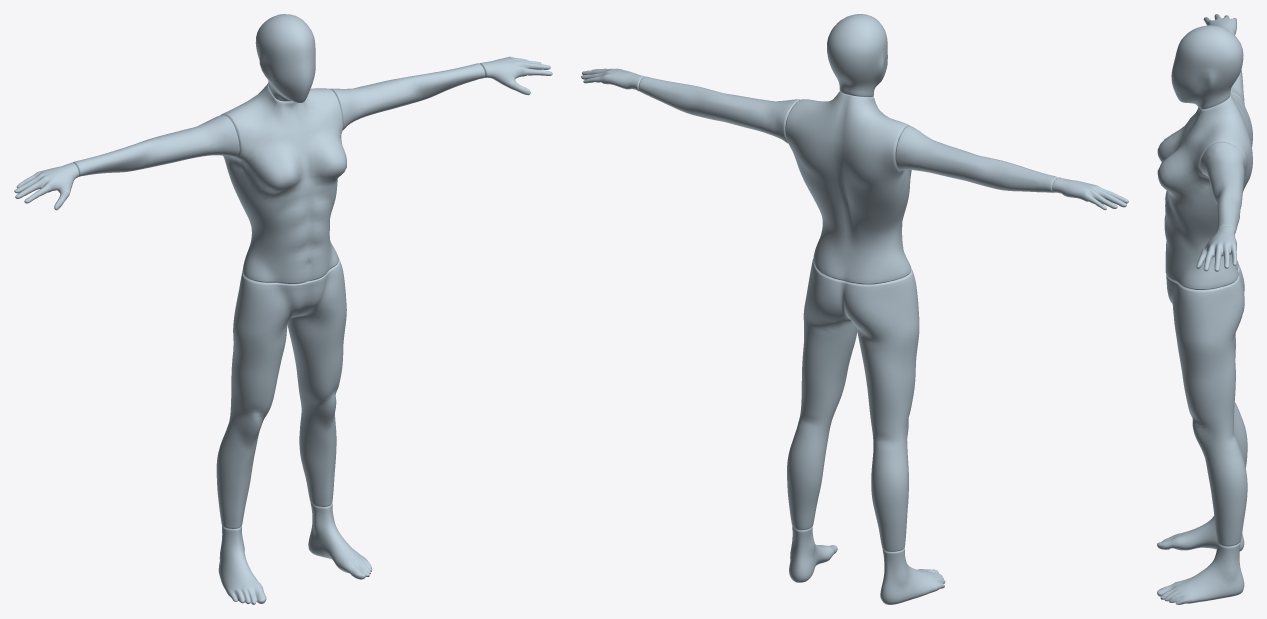
The model's file is player_empty.fbx.
3 views of the same model, side by side, from view 1: azimuth 30°, elevation 25°; view 2: azimuth 150°, elevation 25°; view 3: azimuth 270°, elevation 25° (orthographic). The views are drawn at different scales.
Visible parts, largest first — view 1: player; view 2: player; view 3: player.
Boxes of the visible parts, x1,y1,x2,y2 form: player: [14, 14, 552, 604]; player: [581, 14, 1128, 604]; player: [1157, 14, 1252, 604].
Size of the model in its own units: 9128 by 9053 by 1448.
